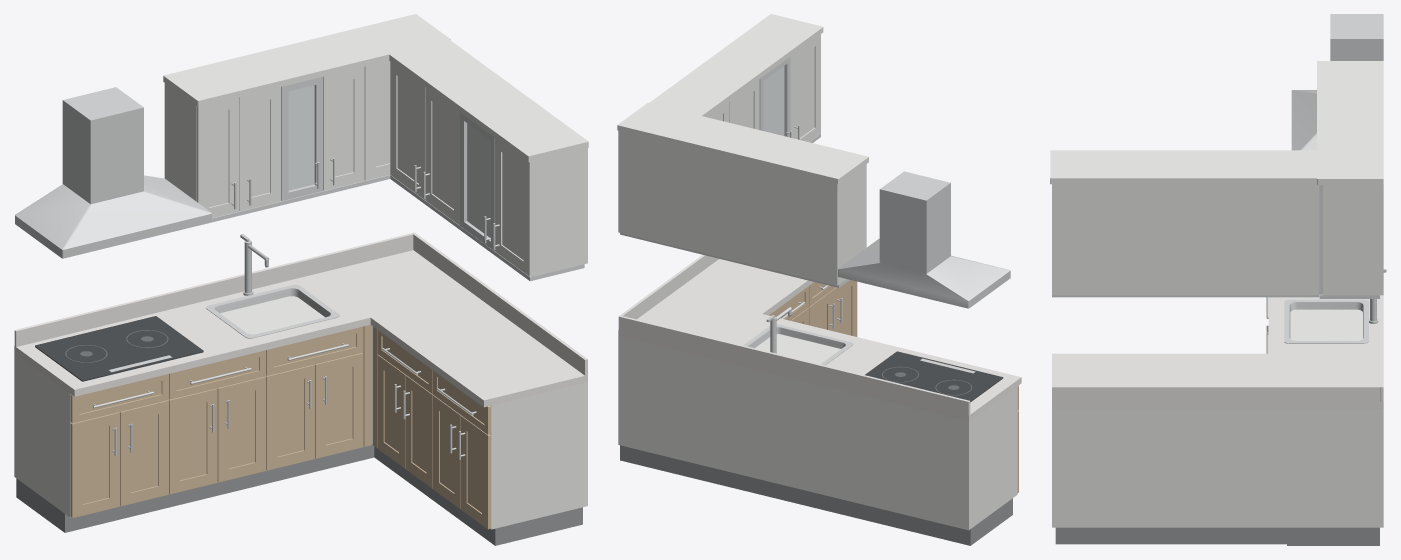
3 renders of one model, left to right at view 1: azimuth 30°, elevation 25°; view 2: azimuth 150°, elevation 25°; view 3: azimuth 270°, elevation 25°, orthographic. The views are drawn at different scales.
Parts seen in each view (by area): view 1: Tủ bếp chữ L Dài cạnh chính=2400; Dài cạnh phụ=1800; Sâu tủ ; view 2: Tủ bếp chữ L Dài cạnh chính=2400; Dài cạnh phụ=1800; Sâu tủ ; view 3: Tủ bếp chữ L Dài cạnh chính=2400; Dài cạnh phụ=1800; Sâu tủ .
Boxes of the visible parts, x1,y1,x2,y2 form: Tủ bếp chữ L Dài cạnh chính=2400; Dài cạnh phụ=1800; Sâu tủ : (14, 14, 588, 545); Tủ bếp chữ L Dài cạnh chính=2400; Dài cạnh phụ=1800; Sâu tủ : (617, 14, 1021, 545); Tủ bếp chữ L Dài cạnh chính=2400; Dài cạnh phụ=1800; Sâu tủ : (1050, 14, 1386, 545).
Size of the model in its own units: 2.41 by 2.2 by 1.82.
